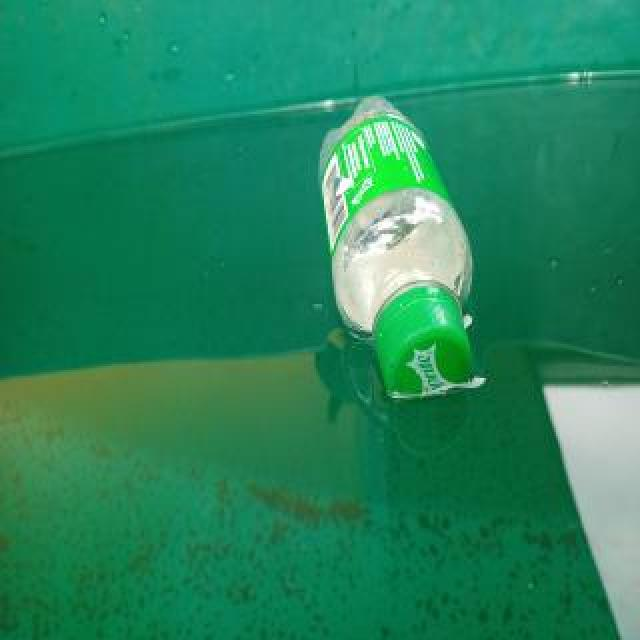Plastic Bottle: (314, 88, 476, 404)
